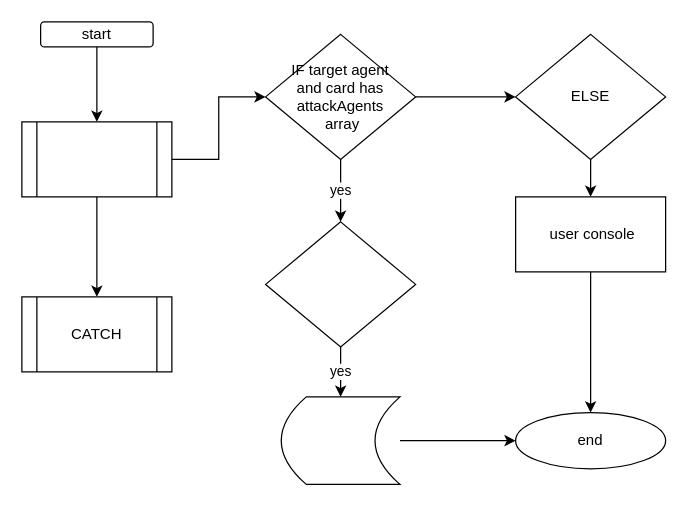
This 688x506 diagram has some shape labels left out. Each missing label, with the centre of its shape:
"IF target agent doesn't have the card id into attacking list" belongs at point (340, 284).
"store the pop into target agent" belongs at point (340, 440).
"TRY" belongs at point (96, 159).
